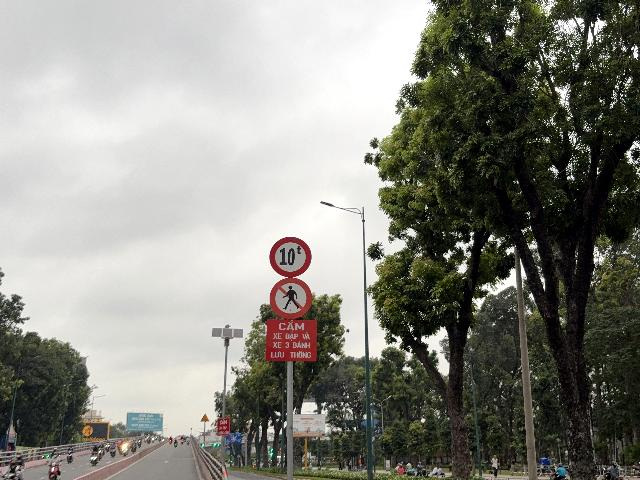cam-nguoi-di-bo: (270, 277, 312, 319)
han-che-trong-luong-xe: (269, 237, 312, 277)
